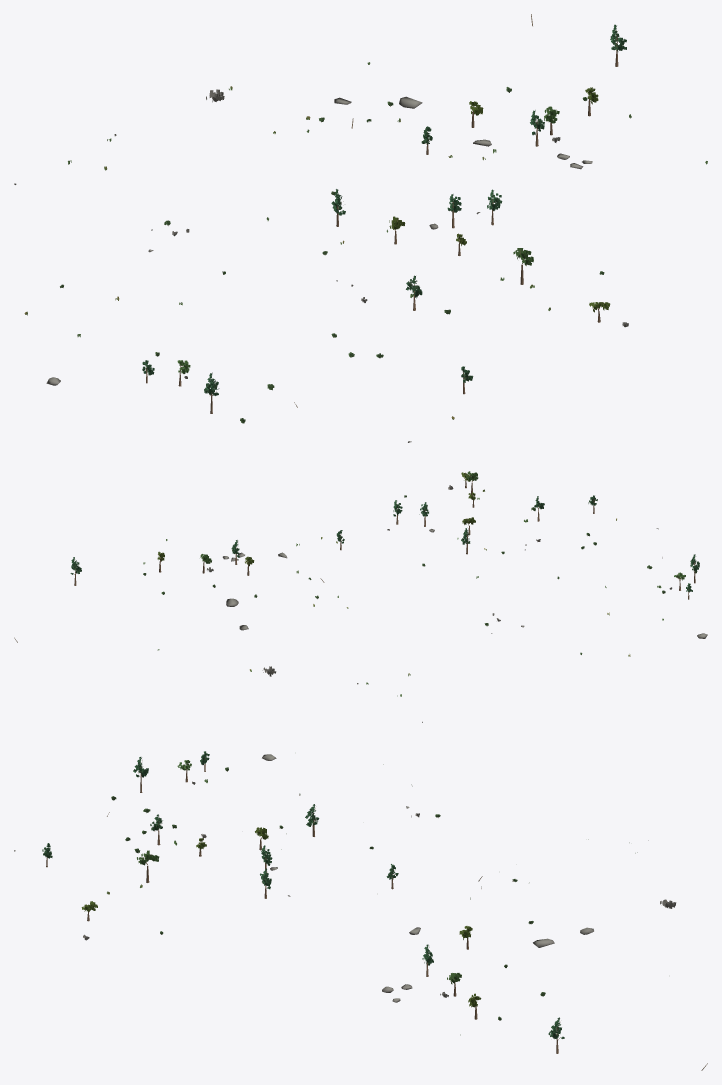
File: arch_land_scatter_c16_21.glb
3 renders of one model, top to bottom at view 1: azimuth 30°, elevation 25°; view 2: azimuth 150°, elevation 25°; view 3: azimuth 270°, elevation 25°, orthographic. The views are drawn at different scales.
Visible parts, largest first — view 1: arch_land_scatter_c16_21; view 2: arch_land_scatter_c16_21; view 3: arch_land_scatter_c16_21.
Boxes of the visible parts, x1,y1,x2,y2 form: arch_land_scatter_c16_21: (14, 14, 707, 442); arch_land_scatter_c16_21: (14, 471, 707, 722); arch_land_scatter_c16_21: (14, 751, 707, 1070).
Size of the model in its own units: 218 by 29.61 by 203.
